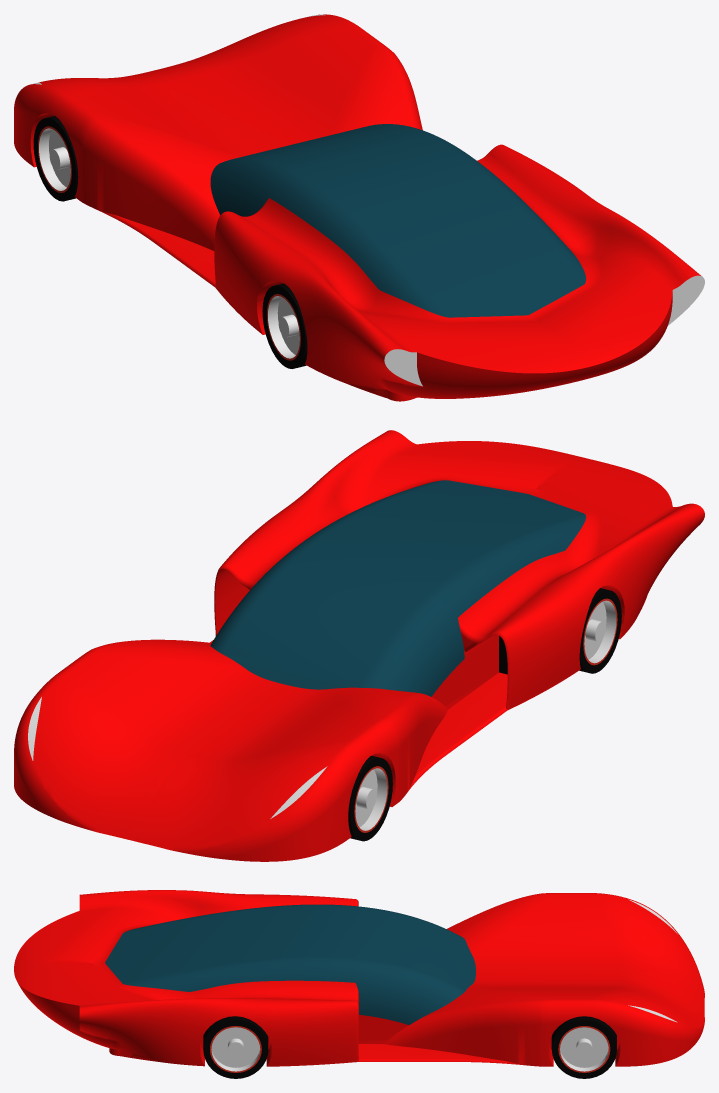
File: My Car 001.fbx
3 views of the same model, one above another, from view 1: azimuth 30°, elevation 25°; view 2: azimuth 150°, elevation 25°; view 3: azimuth 270°, elevation 25° (orthographic). The views are drawn at different scales.
Parts seen in each view (by area): view 1: Car, Roof, Tail Lights, Front Wheel.001, Rear Wheel.001, Tire.003, Tire.002; view 2: Car, Roof, Front Wheel.001, Rear Wheel.001, Tire.002, Tire.003, Headlights; view 3: Car, Roof, Front Wheel, Rear Wheel, Tire, Tire.001, Rim, Rim.001.
Boxes of the visible parts, <box> form: Car: <box>14,14,700,401</box>; Roof: <box>210,124,586,317</box>; Tail Lights: <box>384,275,704,377</box>; Front Wheel.001: <box>39,128,70,190</box>; Rear Wheel.001: <box>268,296,299,358</box>; Tire.003: <box>262,283,307,368</box>; Tire.002: <box>33,116,78,201</box>; Car: <box>14,430,704,861</box>; Roof: <box>210,480,585,696</box>; Front Wheel.001: <box>355,768,387,830</box>; Rear Wheel.001: <box>584,600,616,663</box>; Tire.002: <box>348,755,392,841</box>; Tire.003: <box>579,588,621,673</box>; Headlights: <box>28,697,327,818</box>; Car: <box>14,890,704,1066</box>; Roof: <box>105,904,475,1024</box>; Front Wheel: <box>560,1027,608,1071</box>; Rear Wheel: <box>211,1027,260,1071</box>; Tire: <box>551,1016,616,1078</box>; Tire.001: <box>203,1016,268,1078</box>; Rim: <box>558,1026,610,1072</box>; Rim.001: <box>210,1026,261,1072</box>.
Size of the model in its own units: 327 by 112 by 792.
